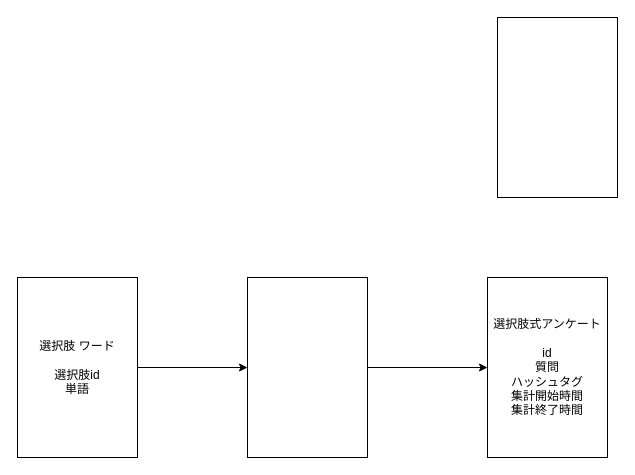
The diagram is 635 pixels wide and 475 high, and some of its shapes have lost their labels. The shapes that lost their labels are listed below. From the top down, each one's centre as x and y in pixels, then its label:
At [557,107]: "自由記述な質問 id 質問 ハッシュタグ 集計開始時間 集計終了時間".
At [307,367]: "選択肢 選択式アンケートid 選択肢".
